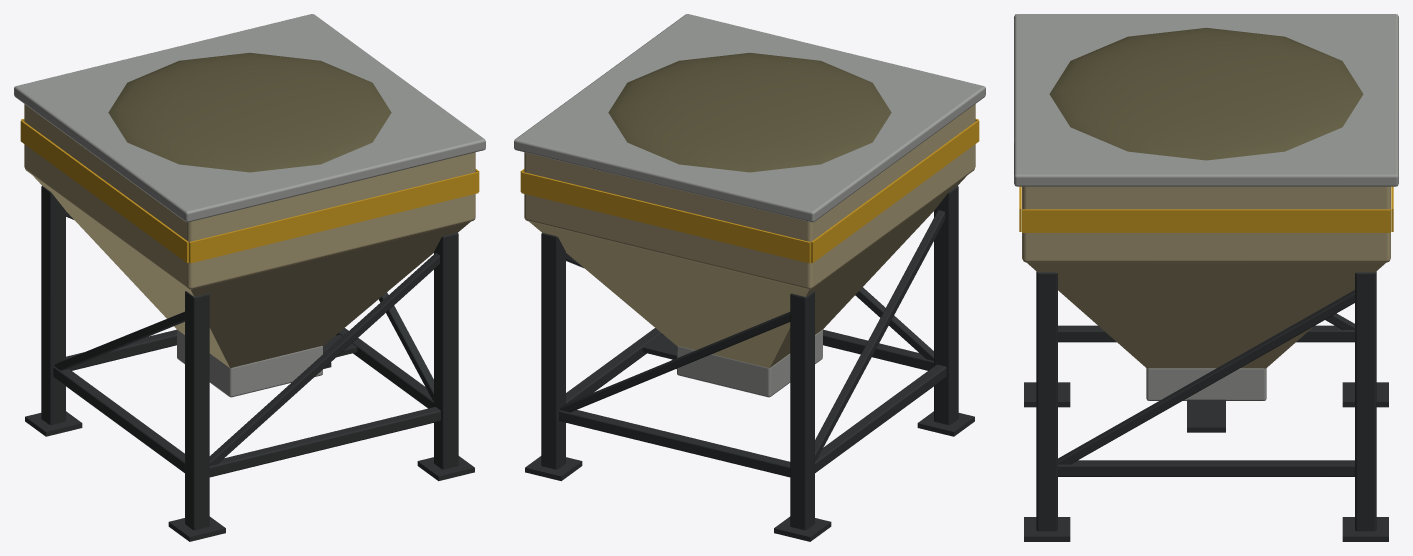
File: hopper.glb
3 views of the same model, side by side, from view 1: azimuth 30°, elevation 25°; view 2: azimuth 150°, elevation 25°; view 3: azimuth 270°, elevation 25° (orthographic). The views are drawn at different scales.
Parts seen in each view (by area): view 1: paint-sand, steel-dark, steel, ground, hazard; view 2: paint-sand, steel-dark, steel, ground, hazard; view 3: paint-sand, steel, ground, steel-dark, hazard.
Boxes of the visible parts, x1=… form: paint-sand: x1=24, y1=104, x2=475, y2=368; steel-dark: x1=25, y1=186, x2=474, y2=541; steel: x1=14, y1=14, x2=485, y2=397; ground: x1=108, y1=52, x2=391, y2=172; hazard: x1=20, y1=119, x2=479, y2=263; paint-sand: x1=524, y1=104, x2=975, y2=368; steel-dark: x1=525, y1=186, x2=974, y2=541; steel: x1=514, y1=14, x2=985, y2=397; ground: x1=608, y1=52, x2=891, y2=172; hazard: x1=520, y1=119, x2=979, y2=263; paint-sand: x1=1022, y1=186, x2=1390, y2=368; steel: x1=1014, y1=14, x2=1398, y2=400; ground: x1=1049, y1=27, x2=1363, y2=160; steel-dark: x1=1024, y1=271, x2=1388, y2=541; hazard: x1=1019, y1=186, x2=1393, y2=232.
Size of the model in its own units: 1.98 by 2.2 by 1.98.
